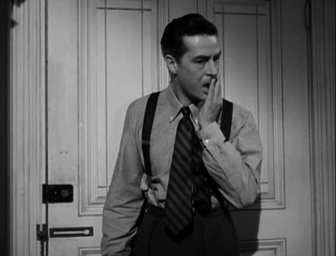face: (183, 42, 221, 101)
ms: (1, 1, 336, 256)
person: (101, 13, 264, 256)
